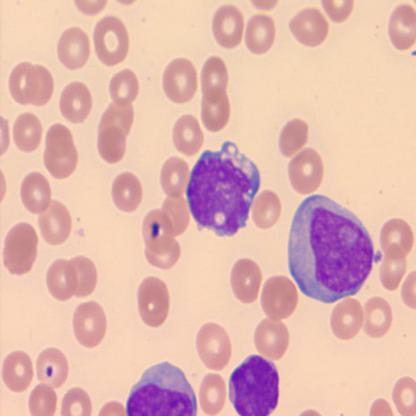Blast: (287, 192, 373, 304), (185, 139, 261, 239)
